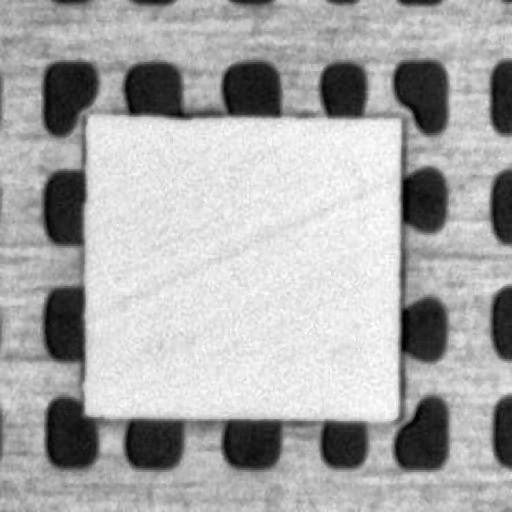DIE_CRACK: (86, 173, 388, 323)
